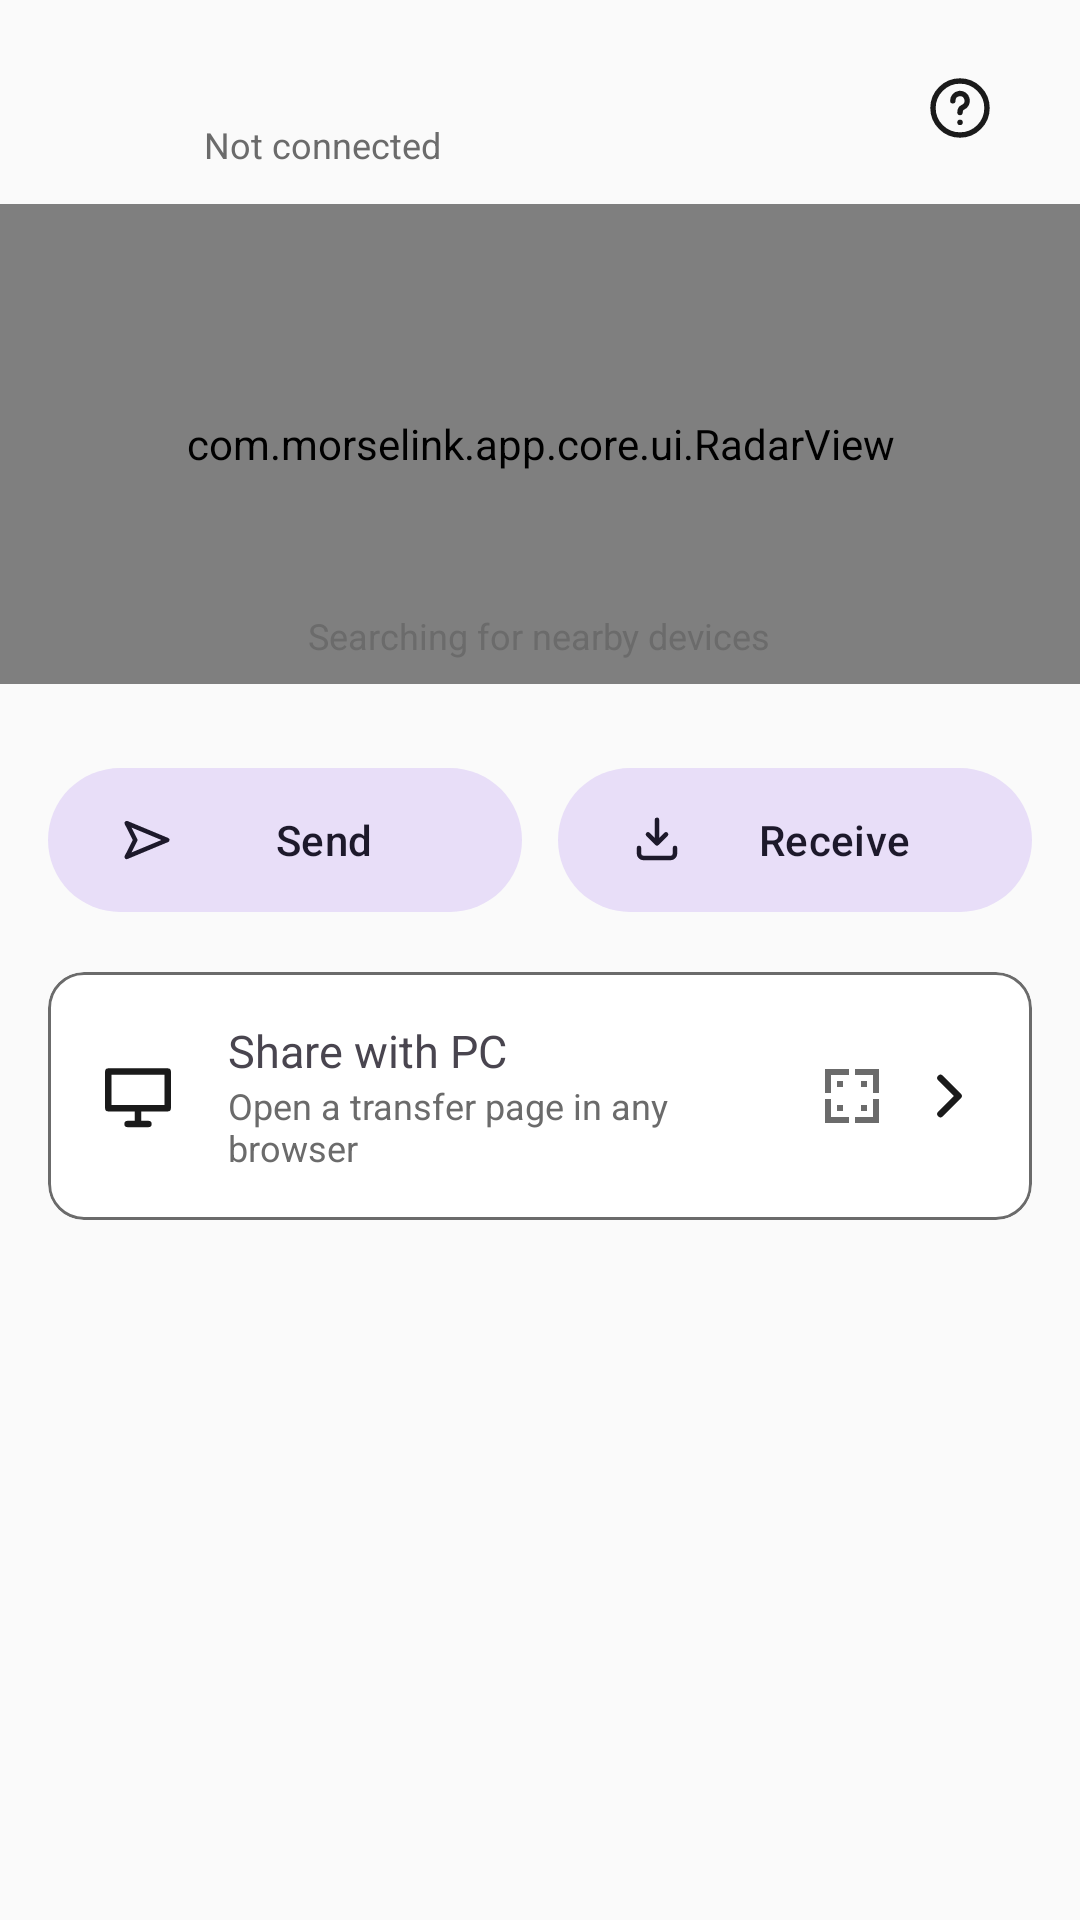

Named icons in this screenshot (1080*1920) and their centers, (x=x, y=y):
chevron right: (x=949, y=1096)
computer: (x=138, y=1098)
Help and diagnostics: (x=960, y=108)
Scan to connect: (x=852, y=1096)
